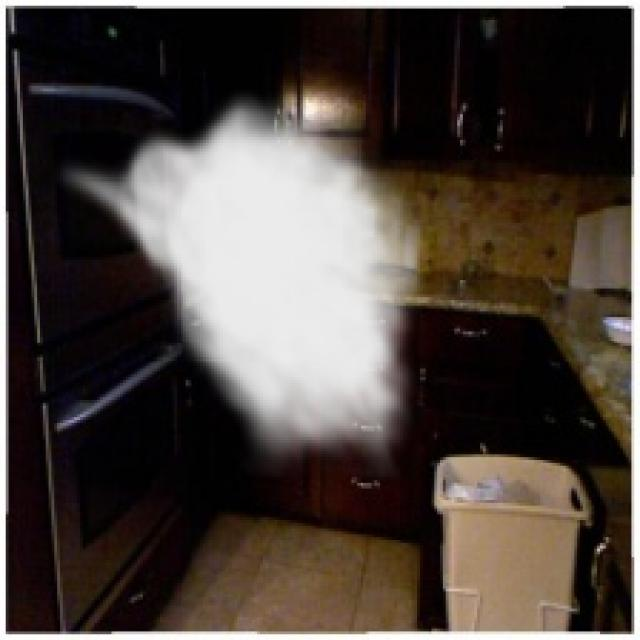smoke: (51, 86, 432, 480)
